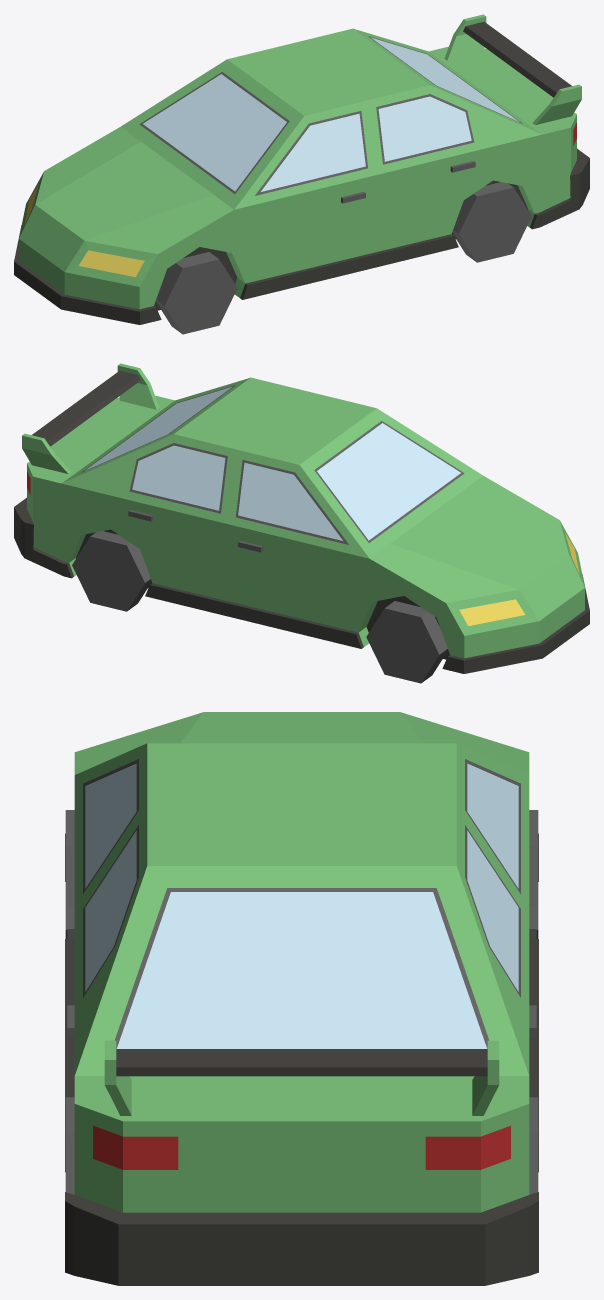
The model's file is Car_1_2.fbx.
The picture shows the model from 3 angles, top to bottom: view 1: azimuth 30°, elevation 25°; view 2: azimuth 150°, elevation 25°; view 3: azimuth 270°, elevation 25°; orthographic projection. The views are drawn at different scales.
Parts seen in each view (by area): view 1: Car_1_2; view 2: Car_1_2; view 3: Car_1_2.
Boxes of the visible parts, left/top/right/bottom form: Car_1_2: left=14, top=14, right=589, bottom=334; Car_1_2: left=14, top=363, right=589, bottom=683; Car_1_2: left=65, top=712, right=538, bottom=1285.
Size of the model in its own units: 7.36 by 2.35 by 2.98.
1 material, 1 textured.
